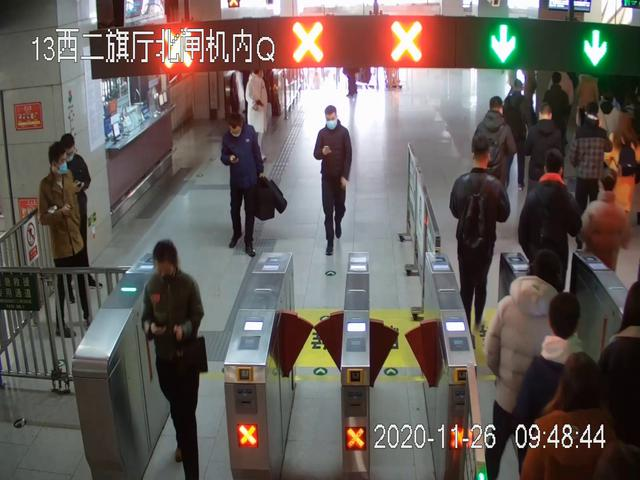person: (484, 250, 580, 480), (515, 293, 608, 480), (143, 240, 209, 478), (519, 149, 583, 348), (449, 139, 510, 327), (39, 141, 94, 340), (220, 113, 286, 258), (581, 167, 632, 337), (312, 106, 353, 256), (470, 95, 511, 242), (524, 102, 567, 222), (574, 103, 614, 218), (501, 79, 534, 193), (246, 66, 268, 157)
